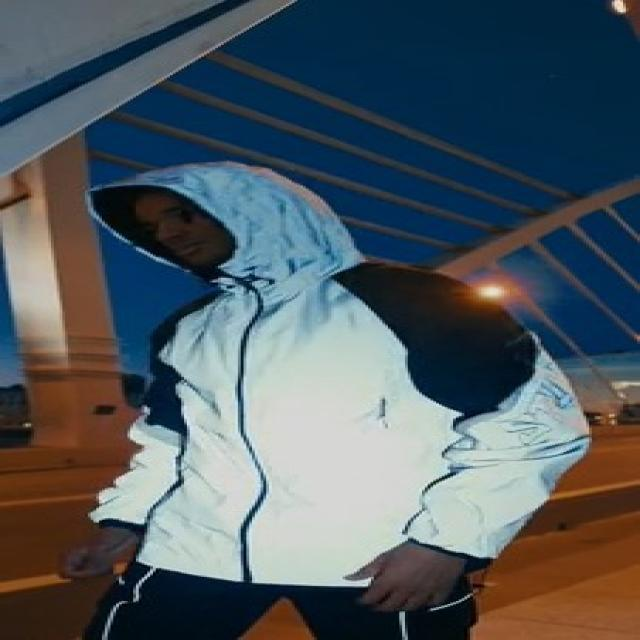Jacket_Wearer: (92, 278, 630, 592)
Person: (42, 155, 600, 636)
